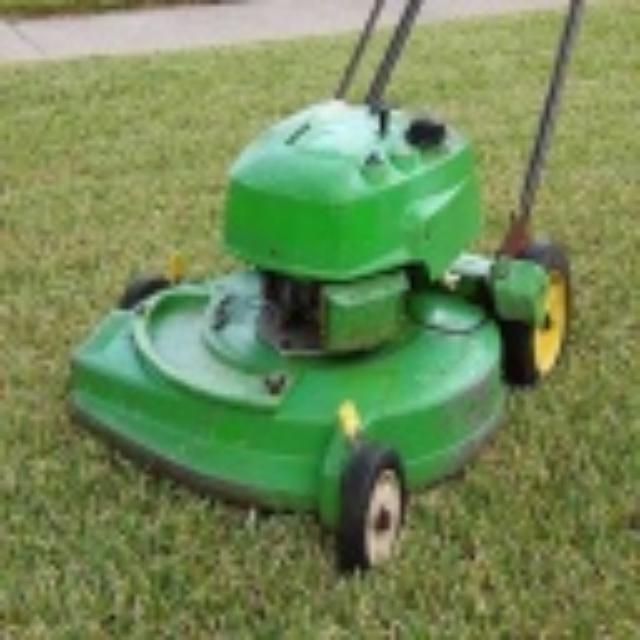Rotary-Mower: (60, 0, 600, 570)
